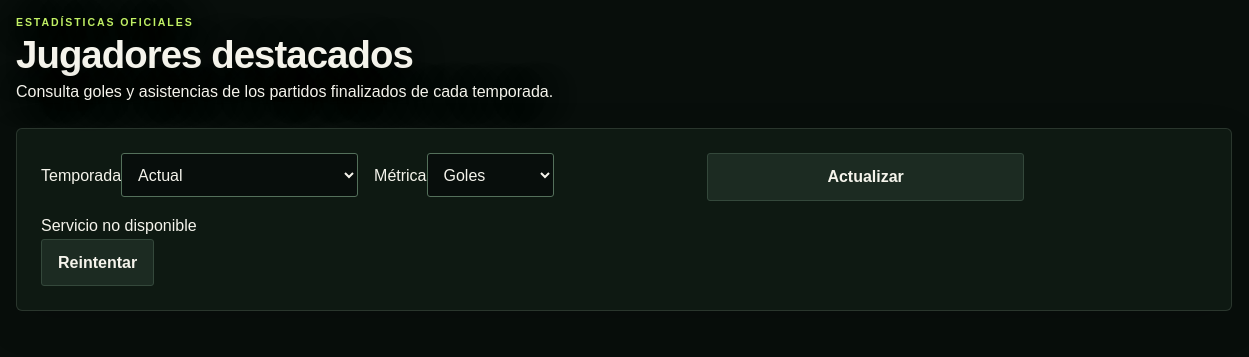
Test: distingue error de vacío y permite reintentar
Check: the message reads "Servicio no disponible", box 41,217 -> 197,234
Click the button "Reintentar" at x=98, y=262, box 41,239 -> 154,286
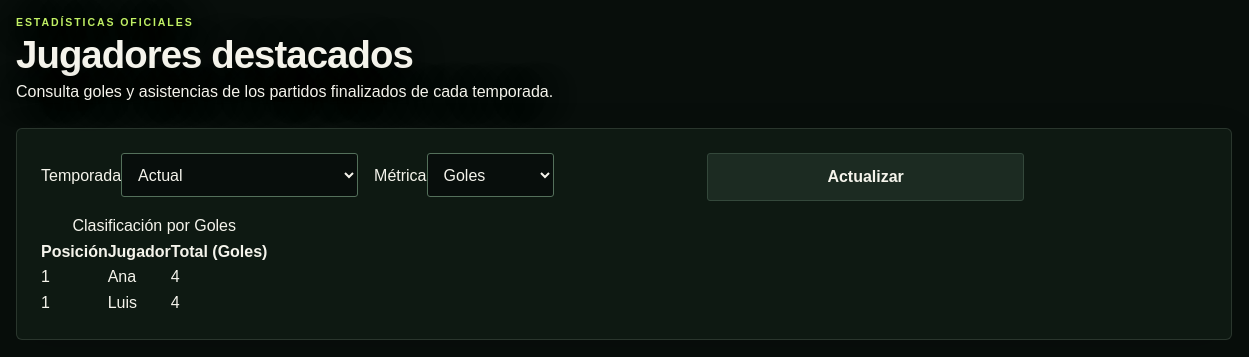
Check: the text "Ana" is shown, box 108,264 -> 171,290
